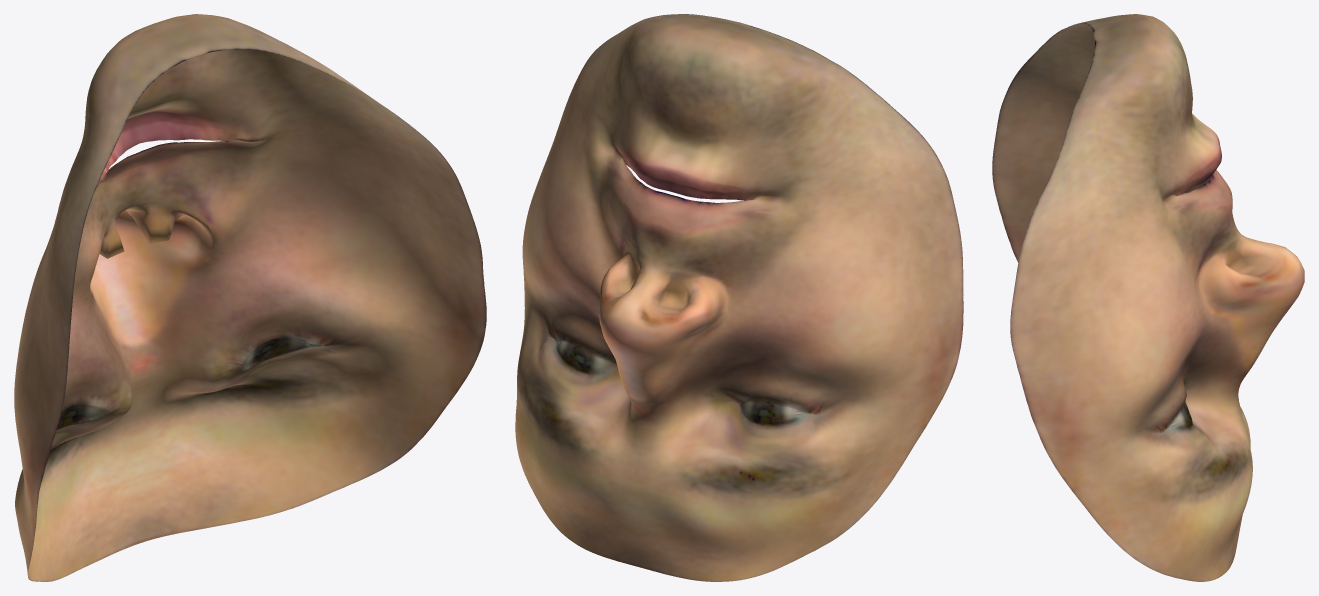
The model's file is NextFace.glb.
The picture shows the model from 3 angles, left to right: view 1: azimuth 30°, elevation 25°; view 2: azimuth 150°, elevation 25°; view 3: azimuth 270°, elevation 25°; orthographic projection. The views are drawn at different scales.
Parts seen in each view (by area): view 1: mesh0.003; view 2: mesh0.003; view 3: mesh0.003.
Boxes of the visible parts, x1,y1,x2,y2 form: mesh0.003: [14, 14, 486, 581]; mesh0.003: [515, 14, 963, 581]; mesh0.003: [992, 14, 1304, 581].
Bounding box in the file's own units: 0.8424 × 1 × 0.559.
Materials: 1 (1 with a texture image).
